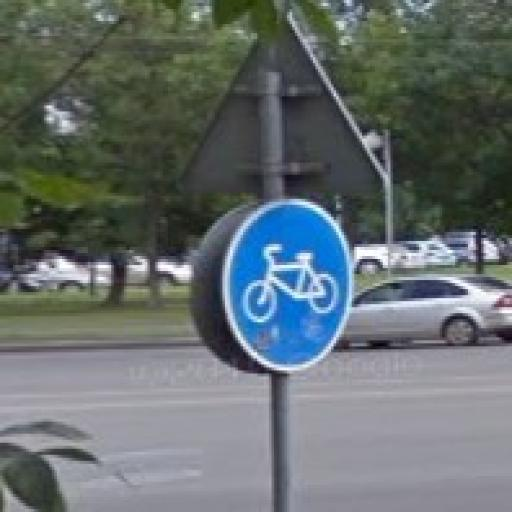traffic_sign: (221, 200, 355, 377)
